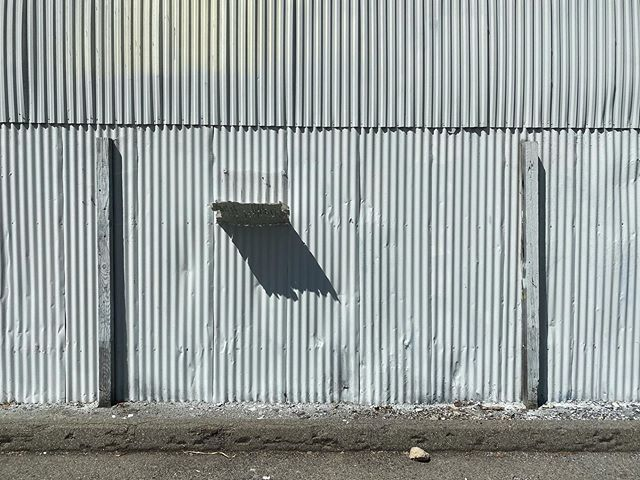wall: (1, 1, 634, 407)
